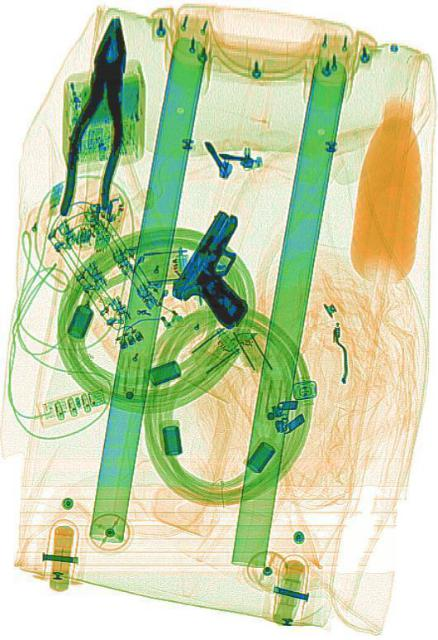Gun: (166, 200, 276, 350)
Pliers: (56, 8, 139, 226)
